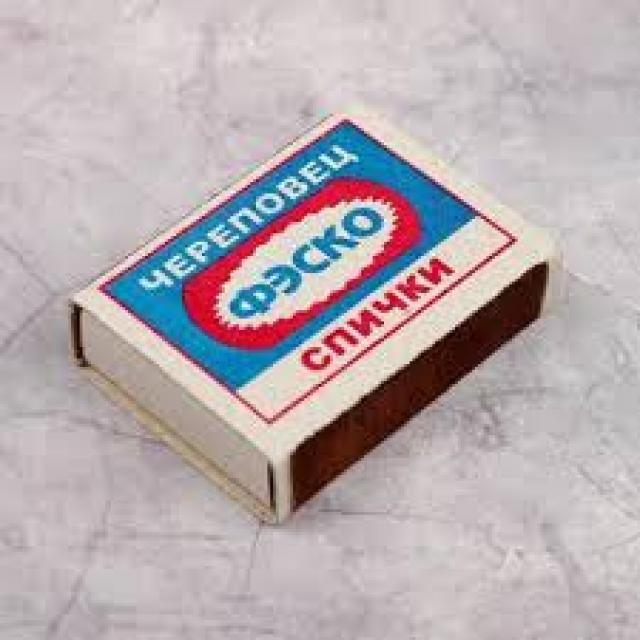match: (66, 99, 561, 522)
